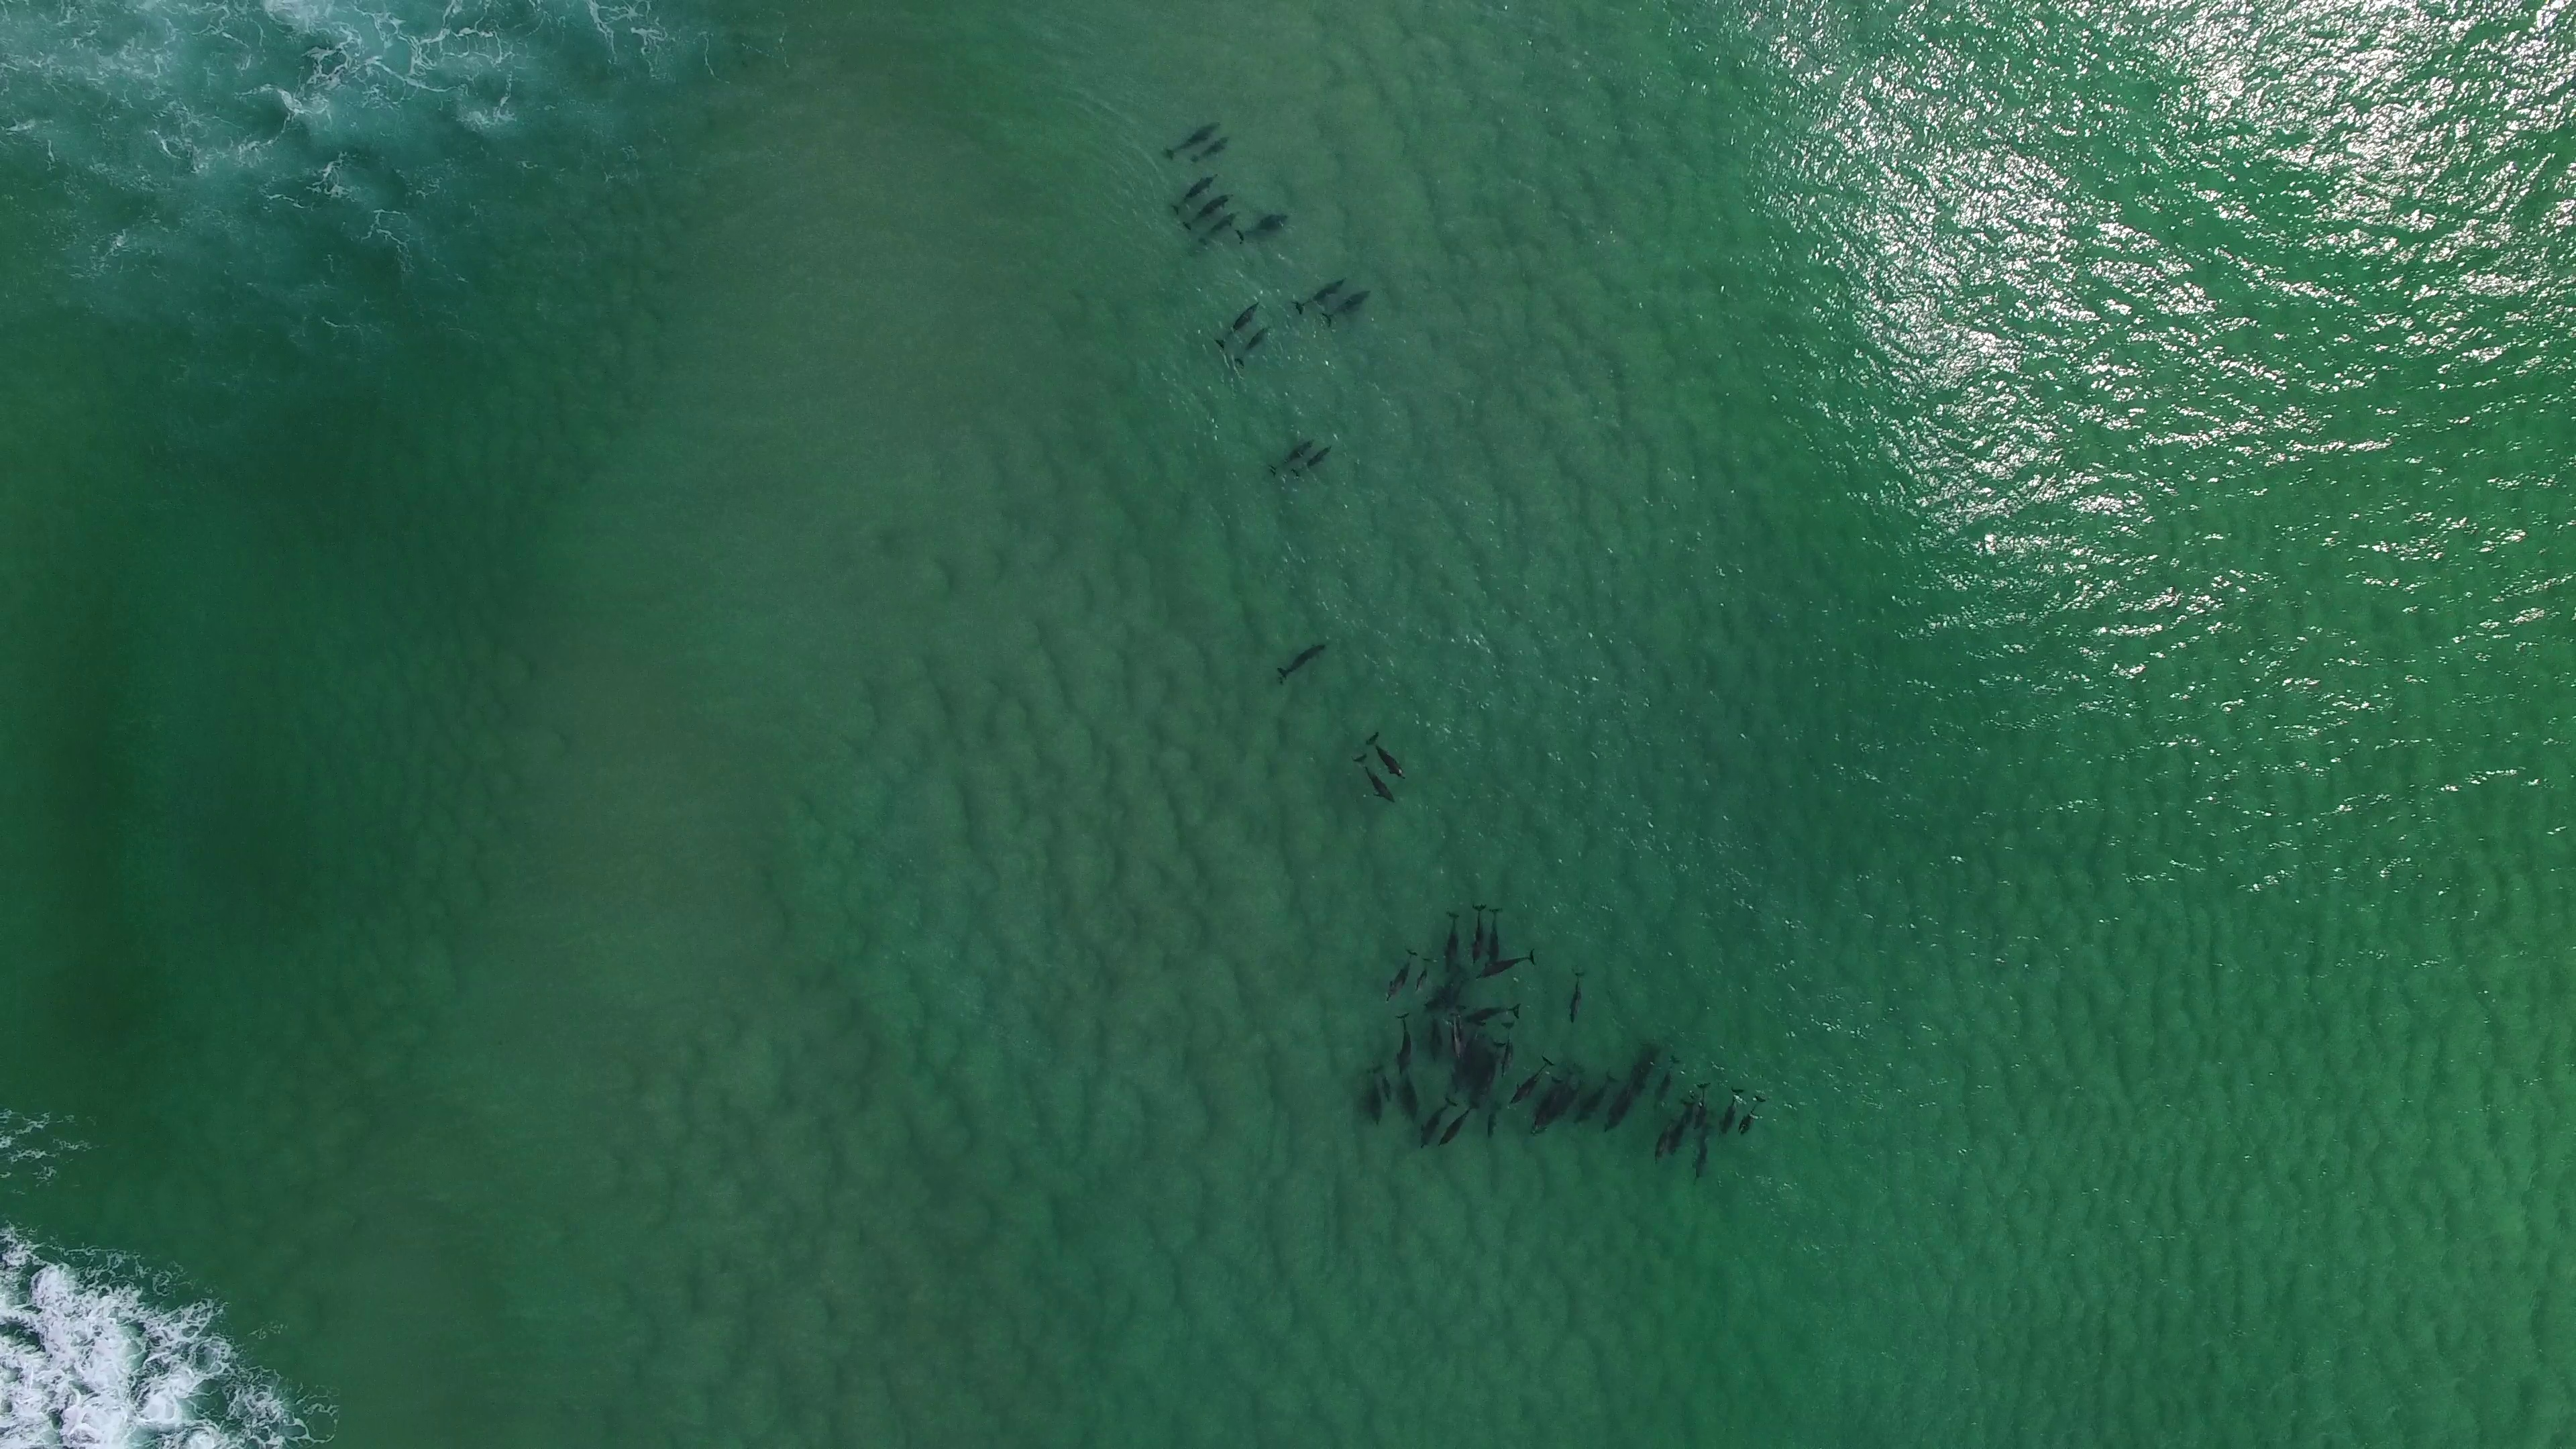dolphin: (1603, 1065, 1647, 1132), (1214, 297, 1263, 347), (1571, 1072, 1619, 1123), (1161, 120, 1221, 159), (1378, 945, 1419, 1001), (1415, 1100, 1461, 1150), (1274, 642, 1327, 685), (1509, 1054, 1552, 1108), (1355, 752, 1396, 807), (1292, 274, 1346, 313), (1320, 287, 1375, 326), (1433, 1102, 1481, 1146), (1364, 732, 1407, 782), (1529, 1072, 1562, 1134), (1173, 172, 1219, 216), (1269, 435, 1316, 478), (1474, 950, 1541, 980), (1182, 193, 1235, 230), (1233, 324, 1276, 368), (1474, 1040, 1506, 1099), (1461, 1000, 1525, 1028), (1652, 1053, 1681, 1111), (1238, 211, 1292, 241), (1463, 897, 1486, 964), (1200, 211, 1240, 248), (1670, 1099, 1698, 1152), (1290, 442, 1336, 474), (1483, 906, 1506, 966), (1718, 1088, 1748, 1132), (1401, 1060, 1422, 1122), (1564, 968, 1587, 1024), (1442, 908, 1461, 971), (1500, 1021, 1522, 1079), (1651, 1118, 1679, 1161), (1366, 1069, 1387, 1123), (1737, 1093, 1766, 1134), (1192, 134, 1228, 165), (1396, 1012, 1414, 1072), (1445, 1012, 1467, 1060), (1426, 1005, 1444, 1062), (1414, 957, 1438, 993), (1695, 1079, 1711, 1131), (1373, 1063, 1396, 1099), (1483, 1100, 1502, 1139)
